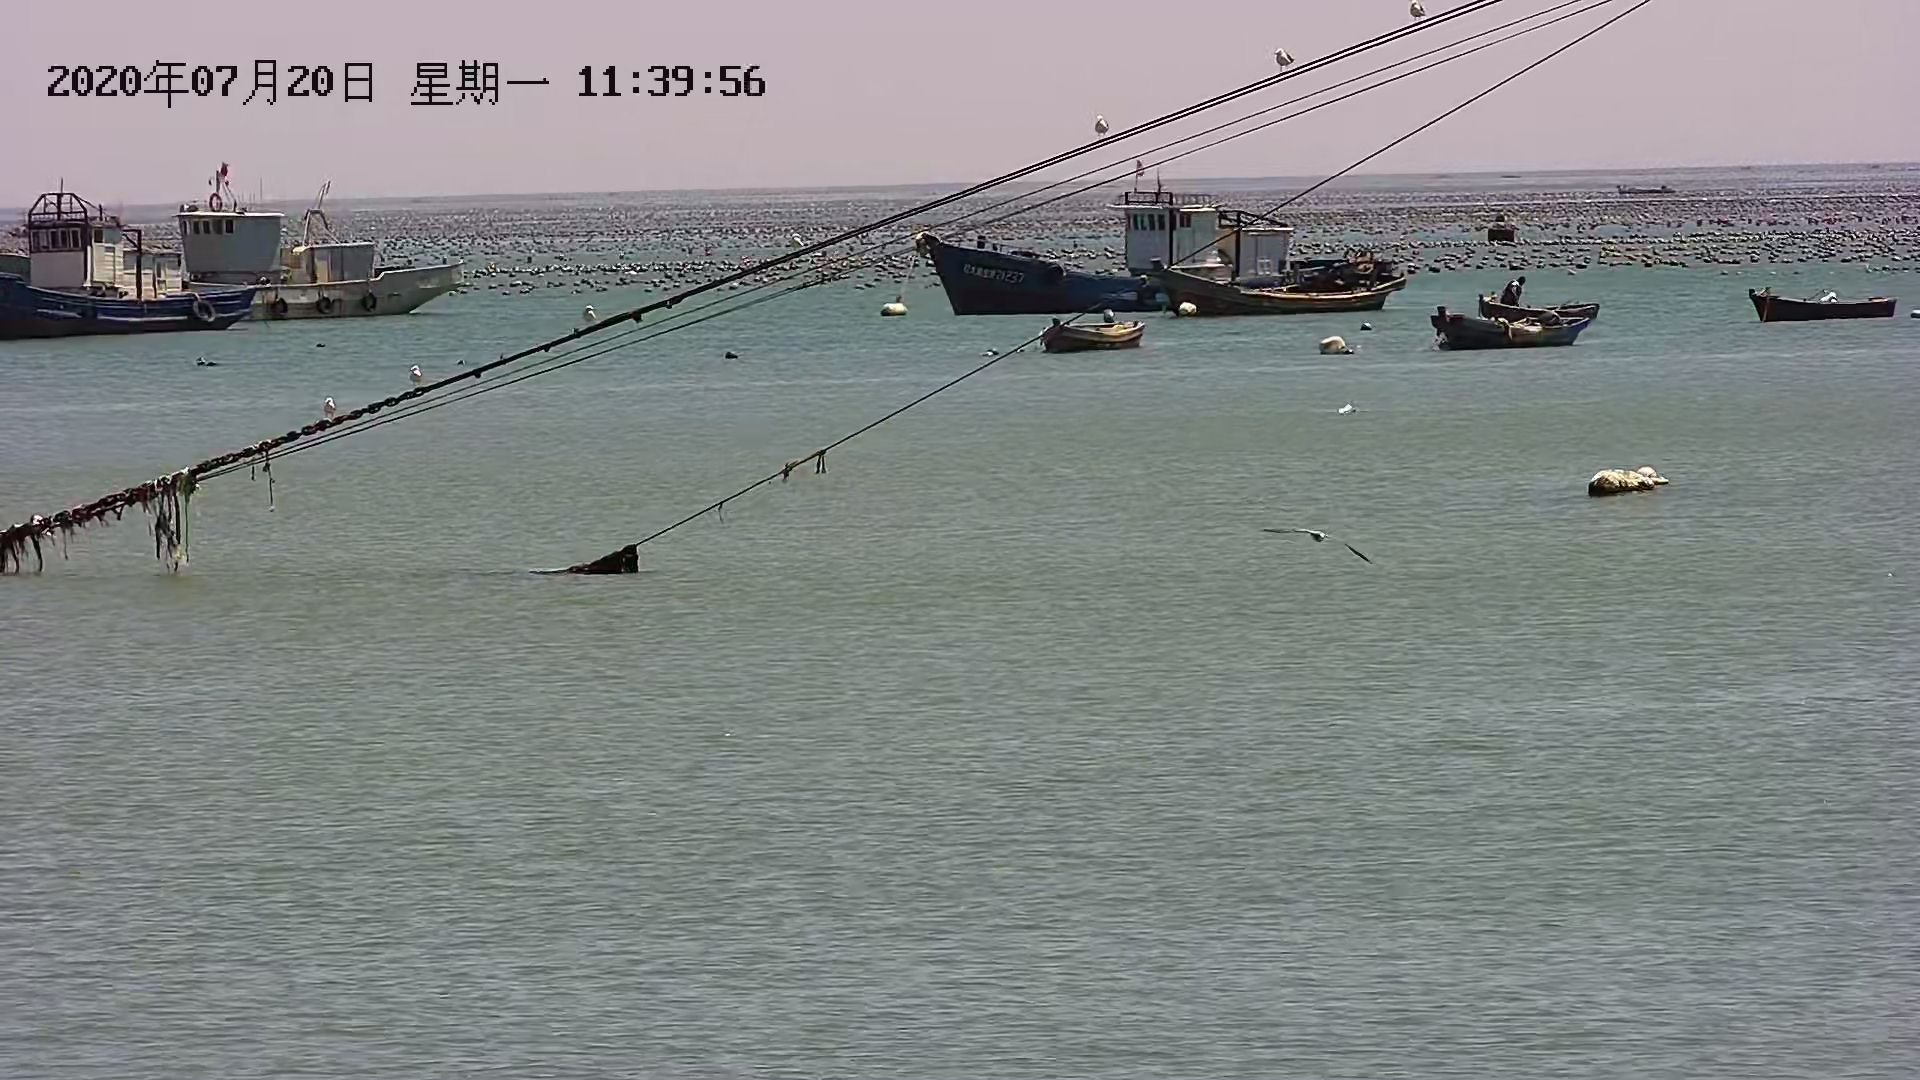boat: (1, 175, 473, 335), (928, 185, 1415, 313), (1448, 273, 1607, 343), (1754, 272, 1896, 324), (1029, 320, 1163, 353), (1484, 210, 1526, 247)
rubbish: (1592, 456, 1669, 501), (1317, 330, 1360, 357), (878, 295, 911, 320)
